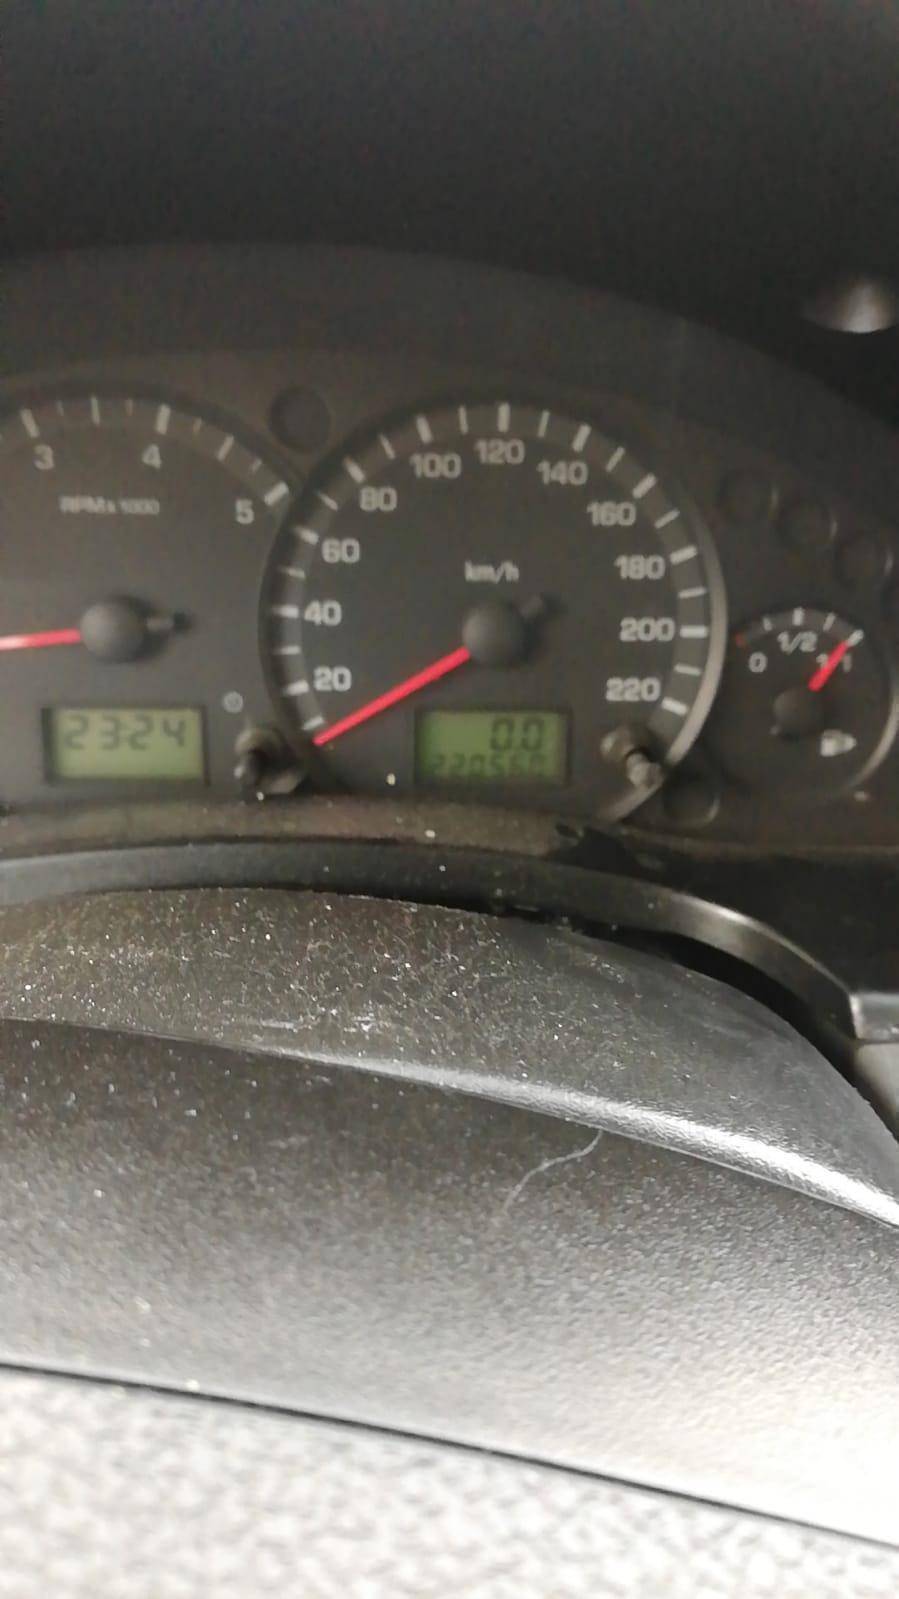0: (488, 716, 514, 750), (521, 716, 544, 751), (527, 751, 546, 778), (469, 753, 485, 778)
2: (448, 751, 465, 779), (429, 752, 446, 779)
5: (487, 752, 505, 778)
6: (507, 751, 526, 779)
odometer: (408, 704, 576, 789)
